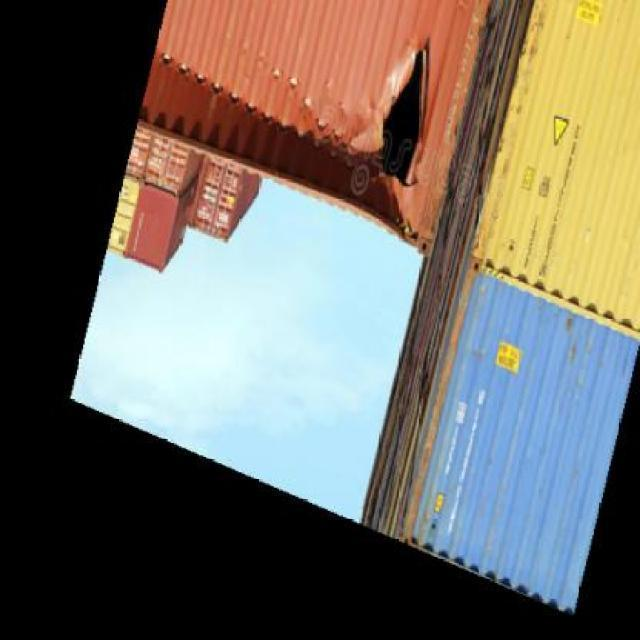Deframe_or_Dent: (228, 127, 404, 235)
Hole: (346, 29, 460, 214)
